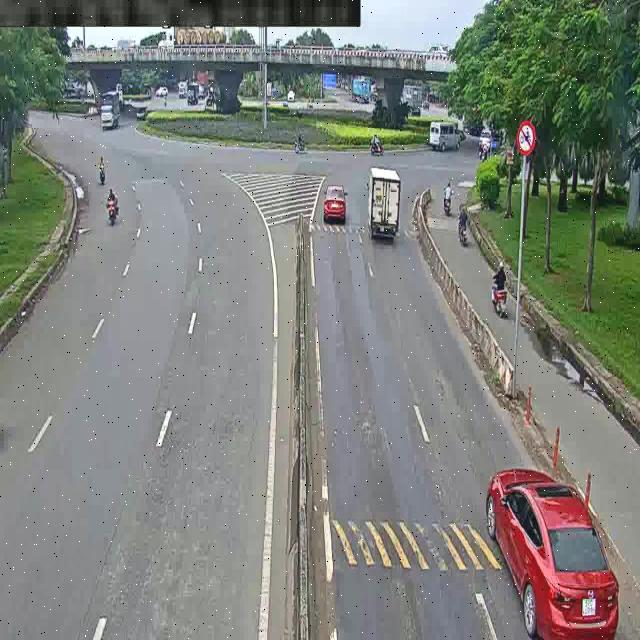car: (483, 467, 627, 640), (322, 176, 352, 219), (173, 79, 202, 108), (150, 85, 175, 98)
motorbike: (480, 262, 526, 327), (82, 151, 115, 192), (105, 190, 128, 233), (365, 132, 395, 159), (438, 178, 457, 217), (456, 207, 477, 241), (286, 132, 309, 150)
truck: (360, 165, 415, 253), (423, 121, 465, 158), (98, 87, 124, 136), (344, 76, 385, 106)
